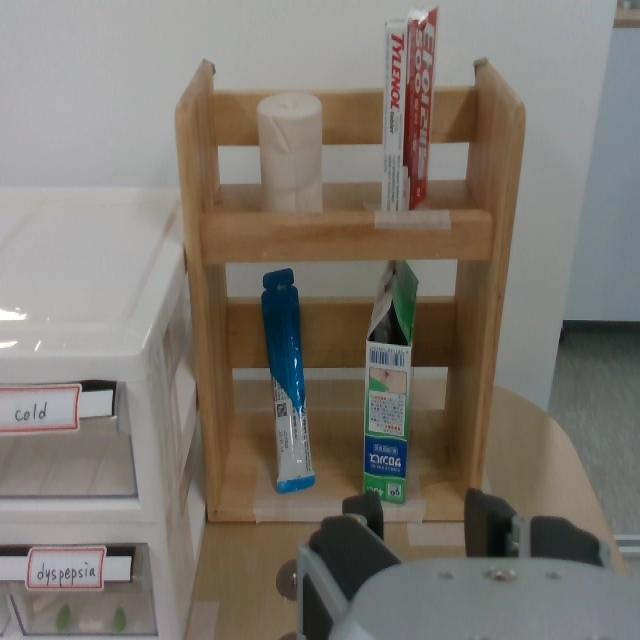bandage: (258, 98, 324, 214)
codaewon_syrup: (261, 266, 314, 490)
sore_patch: (364, 264, 414, 498)
tylenol: (385, 6, 434, 212)
